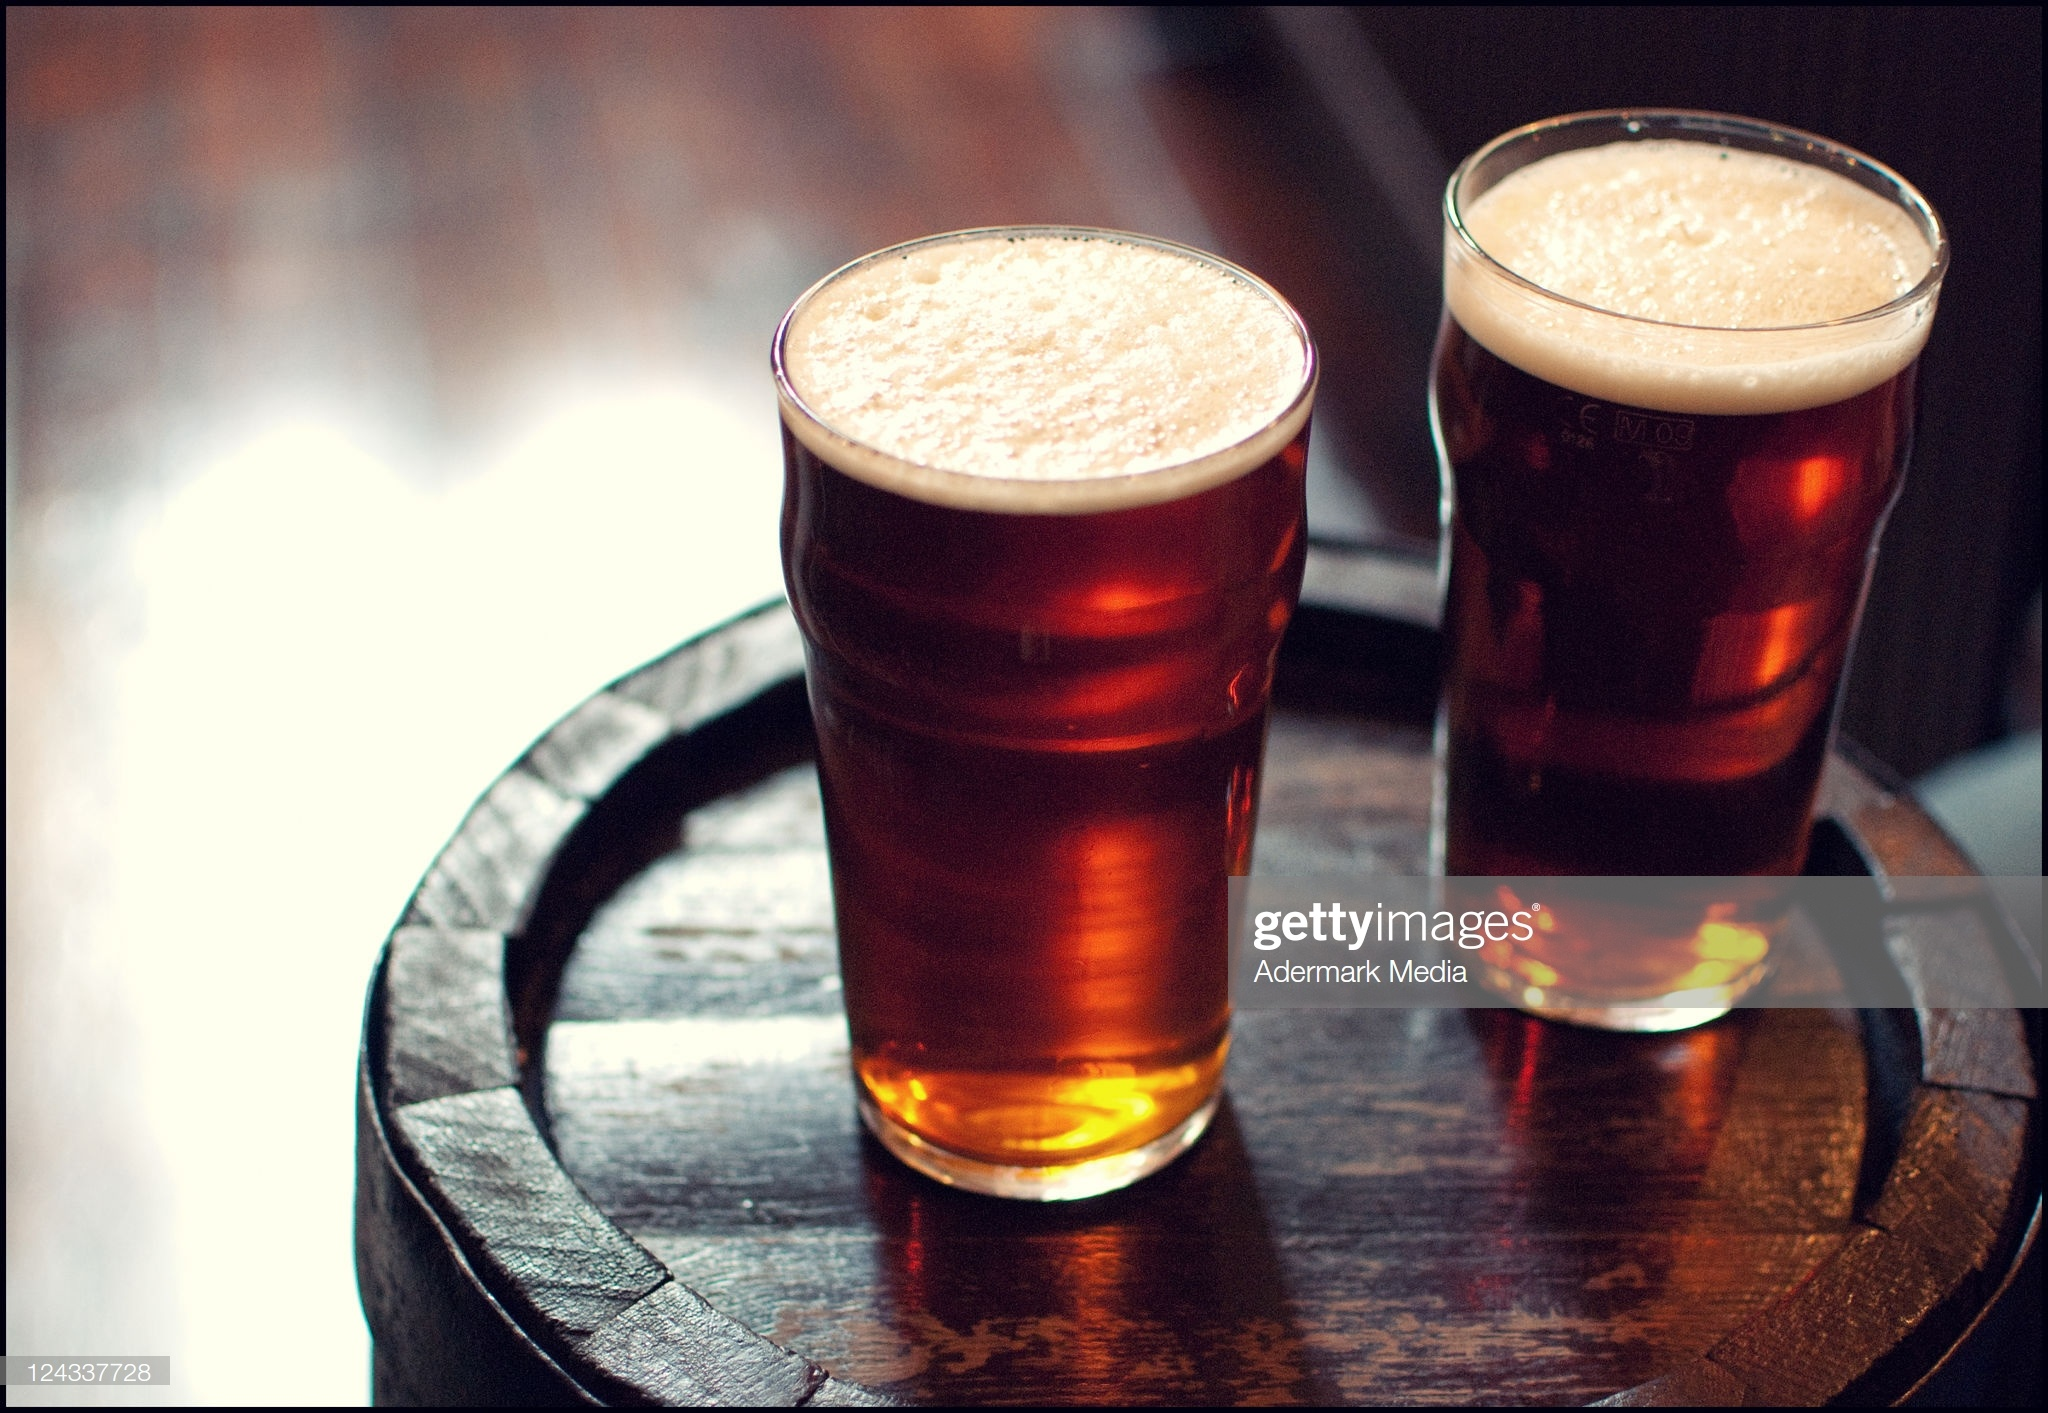glassBeer: (787, 205, 1282, 1206), (1440, 106, 1931, 1019)
